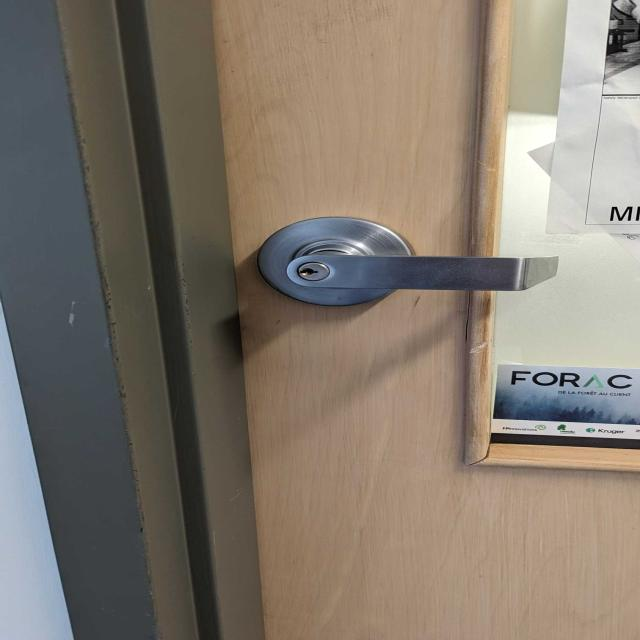door-handle: (258, 218, 558, 305)
